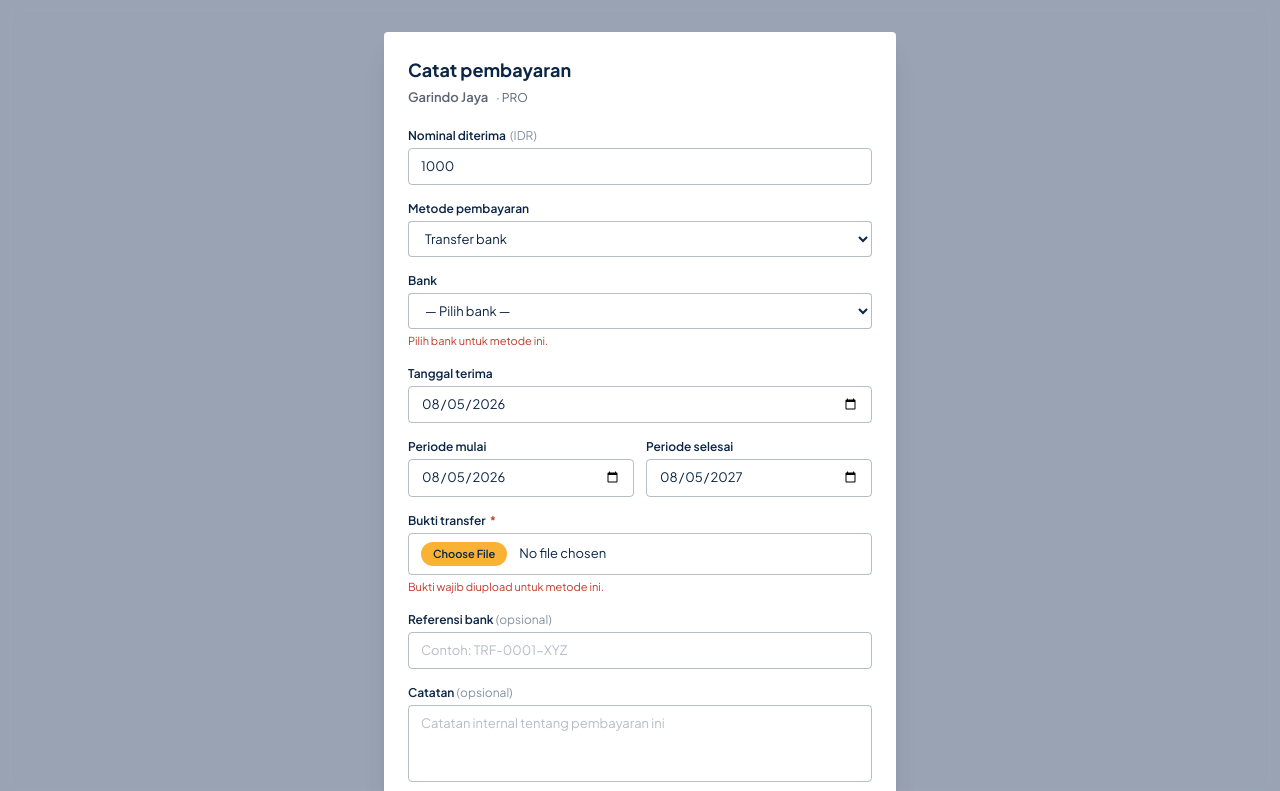
Test: RecordPaymentModal › submit button enabled when form is valid (CASH mode — no upload required)
Select "Tunai" in the dropdown labelled "Metode pembayaran" at [640, 239], box [408,221,872,257]
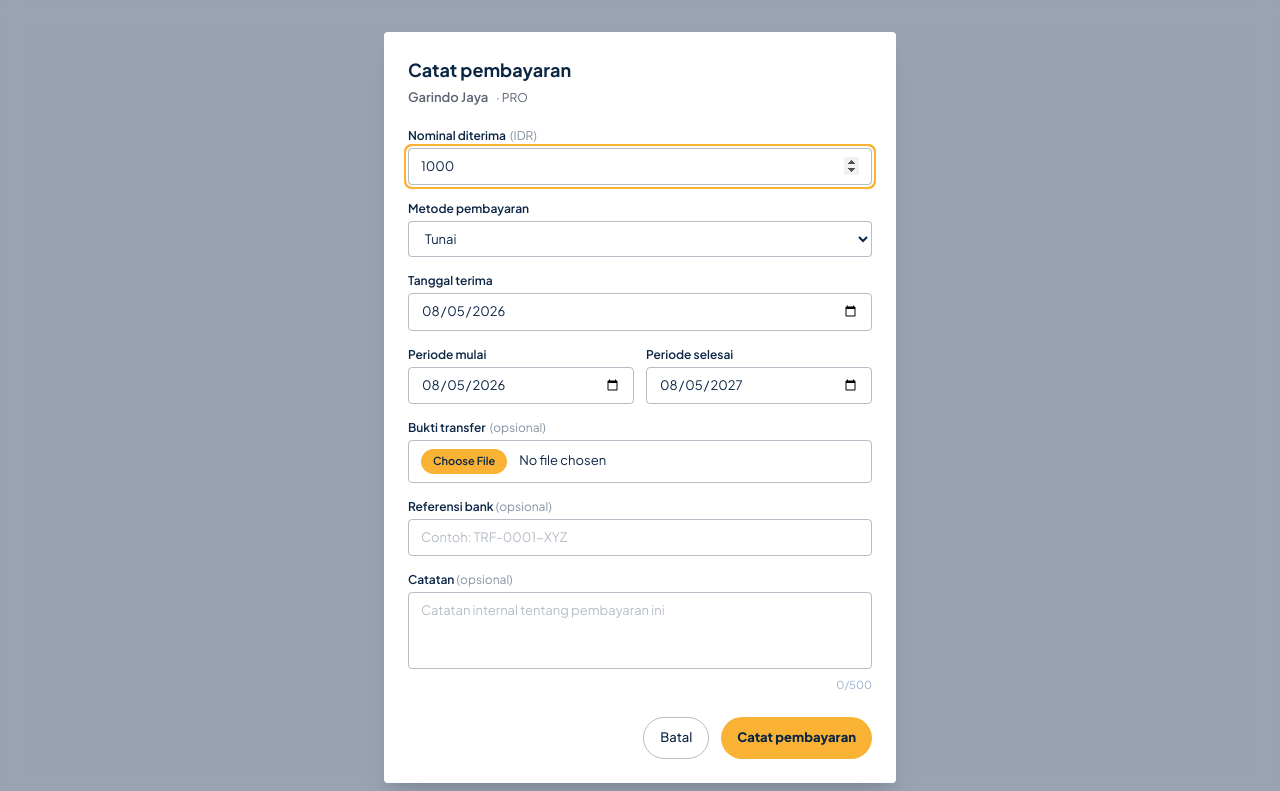
Check: the button with test id "rp-submit" is enabled, box [721,717,872,758]
